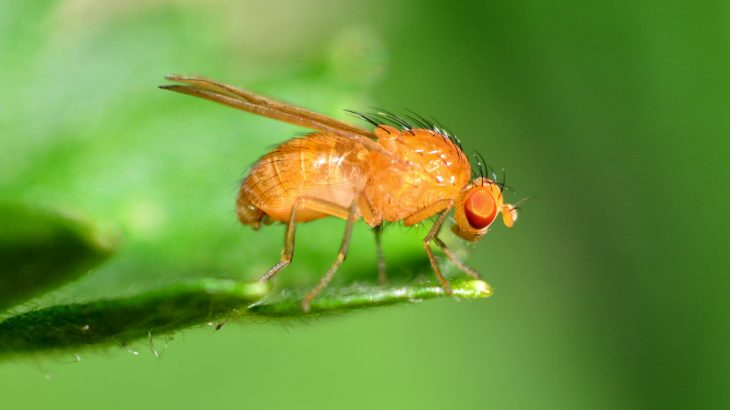Fruit fly: (203, 67, 537, 314)
